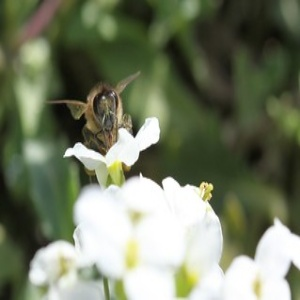bee: (46, 70, 150, 158)
